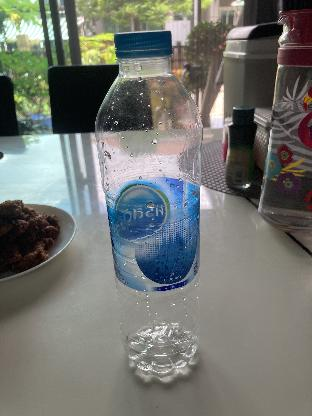Plastic Bottle: (90, 26, 204, 382)
